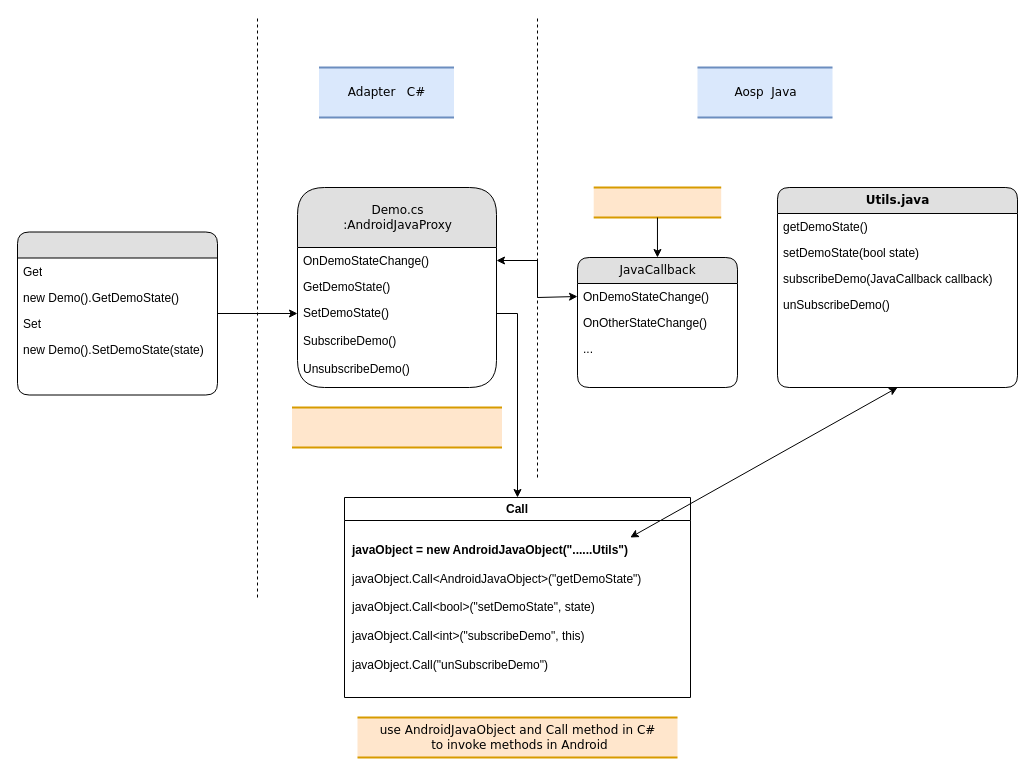
Some shapes in this 1035 by 776 pixel diagram are drawn without their labels. Here are the shapes that lost their labels. From the top down, the box of each, then its label:
(592, 186, 722, 218): Interface
(16, 231, 218, 395): MVI part
(290, 406, 502, 448): Implement Java interface methods using AndroidJavaProxy
